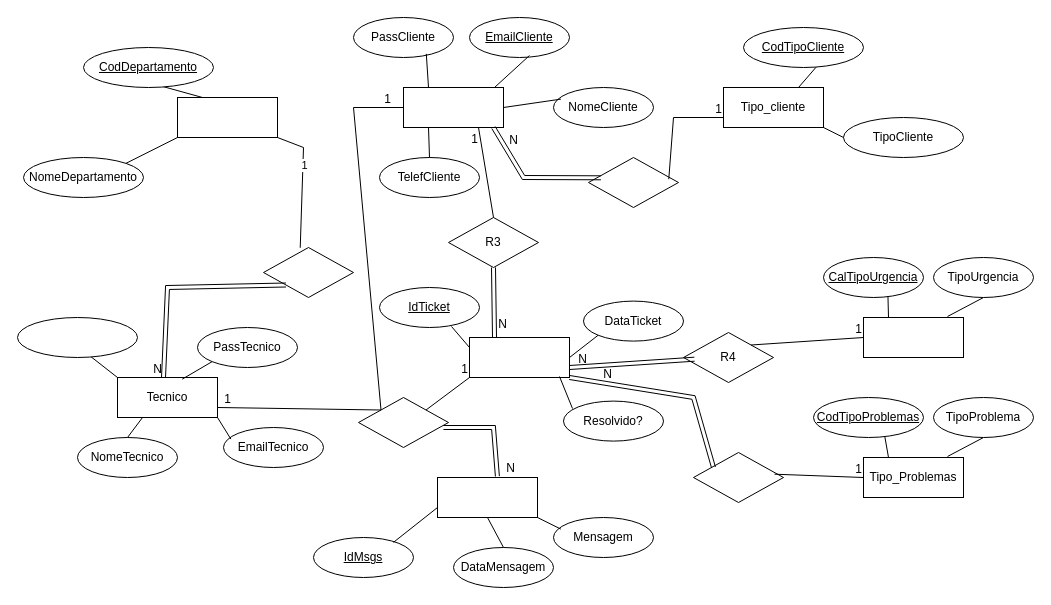
Some shapes in this 1051 by 605 pixel diagram are drawn without their labels. The shapes that lost their labels are listed below. From the top down, each one's centre as x and y in pixels, then its label:
At (x=227, y=117): "Departamento".
At (x=453, y=107): "Cliente".
At (x=633, y=182): "R2".
At (x=308, y=272): "R1".
At (x=77, y=337): "NumTecnico".
At (x=519, y=357): "Ticket".
At (x=913, y=337): "Tipo_Urgencia".
At (x=403, y=422): "R6".
At (x=487, y=497): "Msgs".
At (x=738, y=477): "R5".
